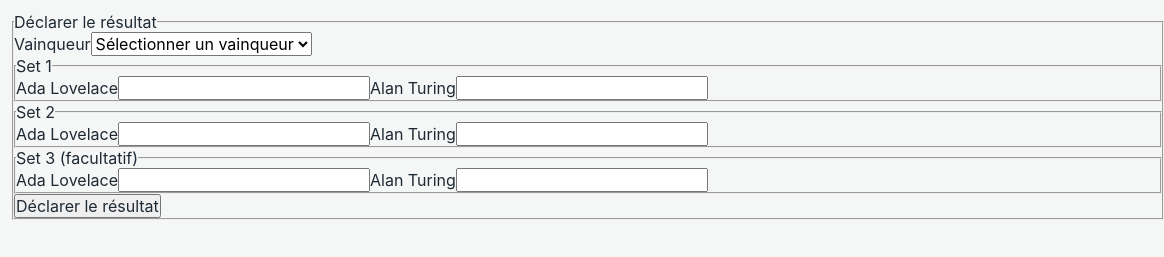
Test: ScoreForm › submits a score and selected winner for its player
Type "6" into the number field named "Ada Lovelace, set 1" at (244, 88), box [118, 76, 370, 100]
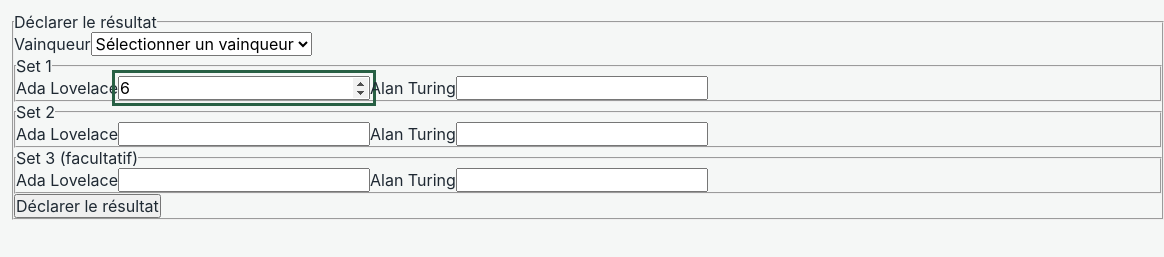
Type "4" into the number field named "Alan Turing, set 1" at (582, 88), box [456, 76, 708, 100]
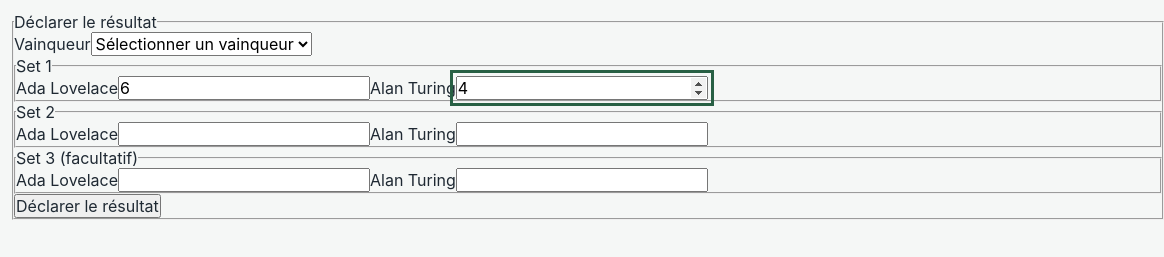
Type "6" into the number field named "Ada Lovelace, set 2" at (244, 134), box [118, 122, 370, 146]
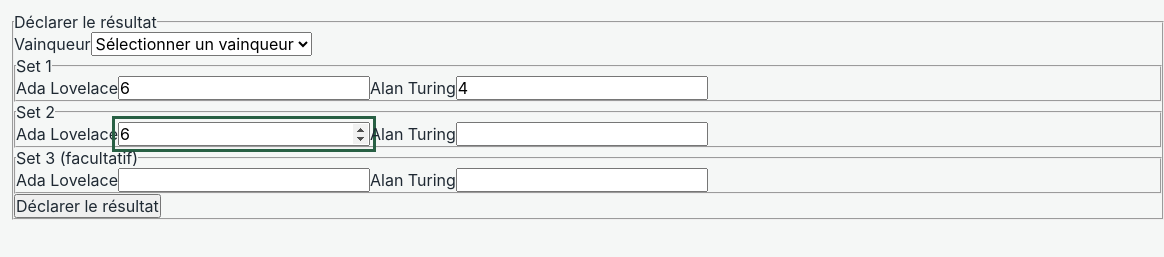
Type "3" into the number field named "Alan Turing, set 2" at (582, 134), box [456, 122, 708, 146]
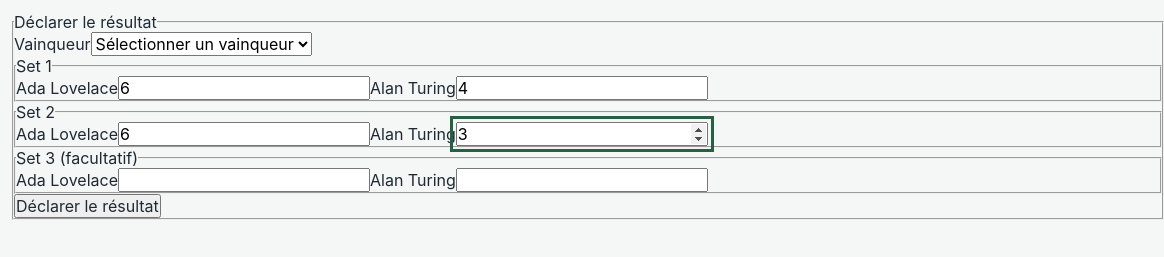
Select "Ada Lovelace" in the dropdown labelled "Vainqueur" at (201, 44), box [91, 32, 312, 56]
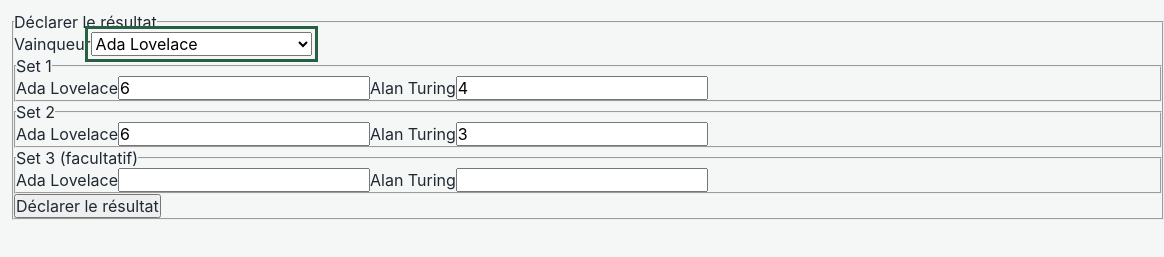
Click the button "Déclarer le résultat" at (87, 206), box [14, 194, 161, 218]
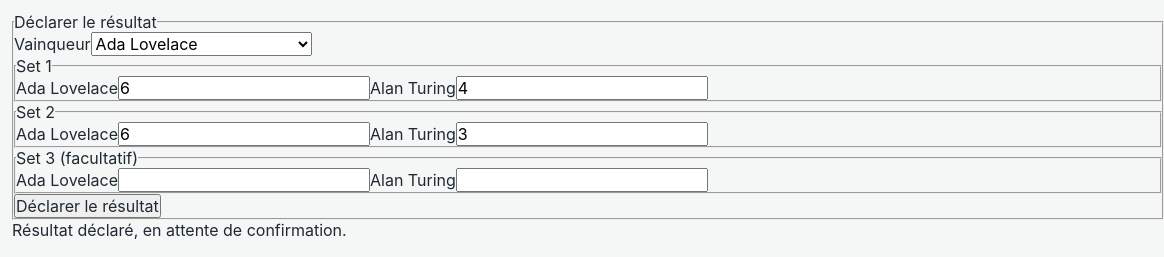
Now the text "Résultat déclaré, en attente de confirmation." is shown, box [12, 220, 347, 240]
